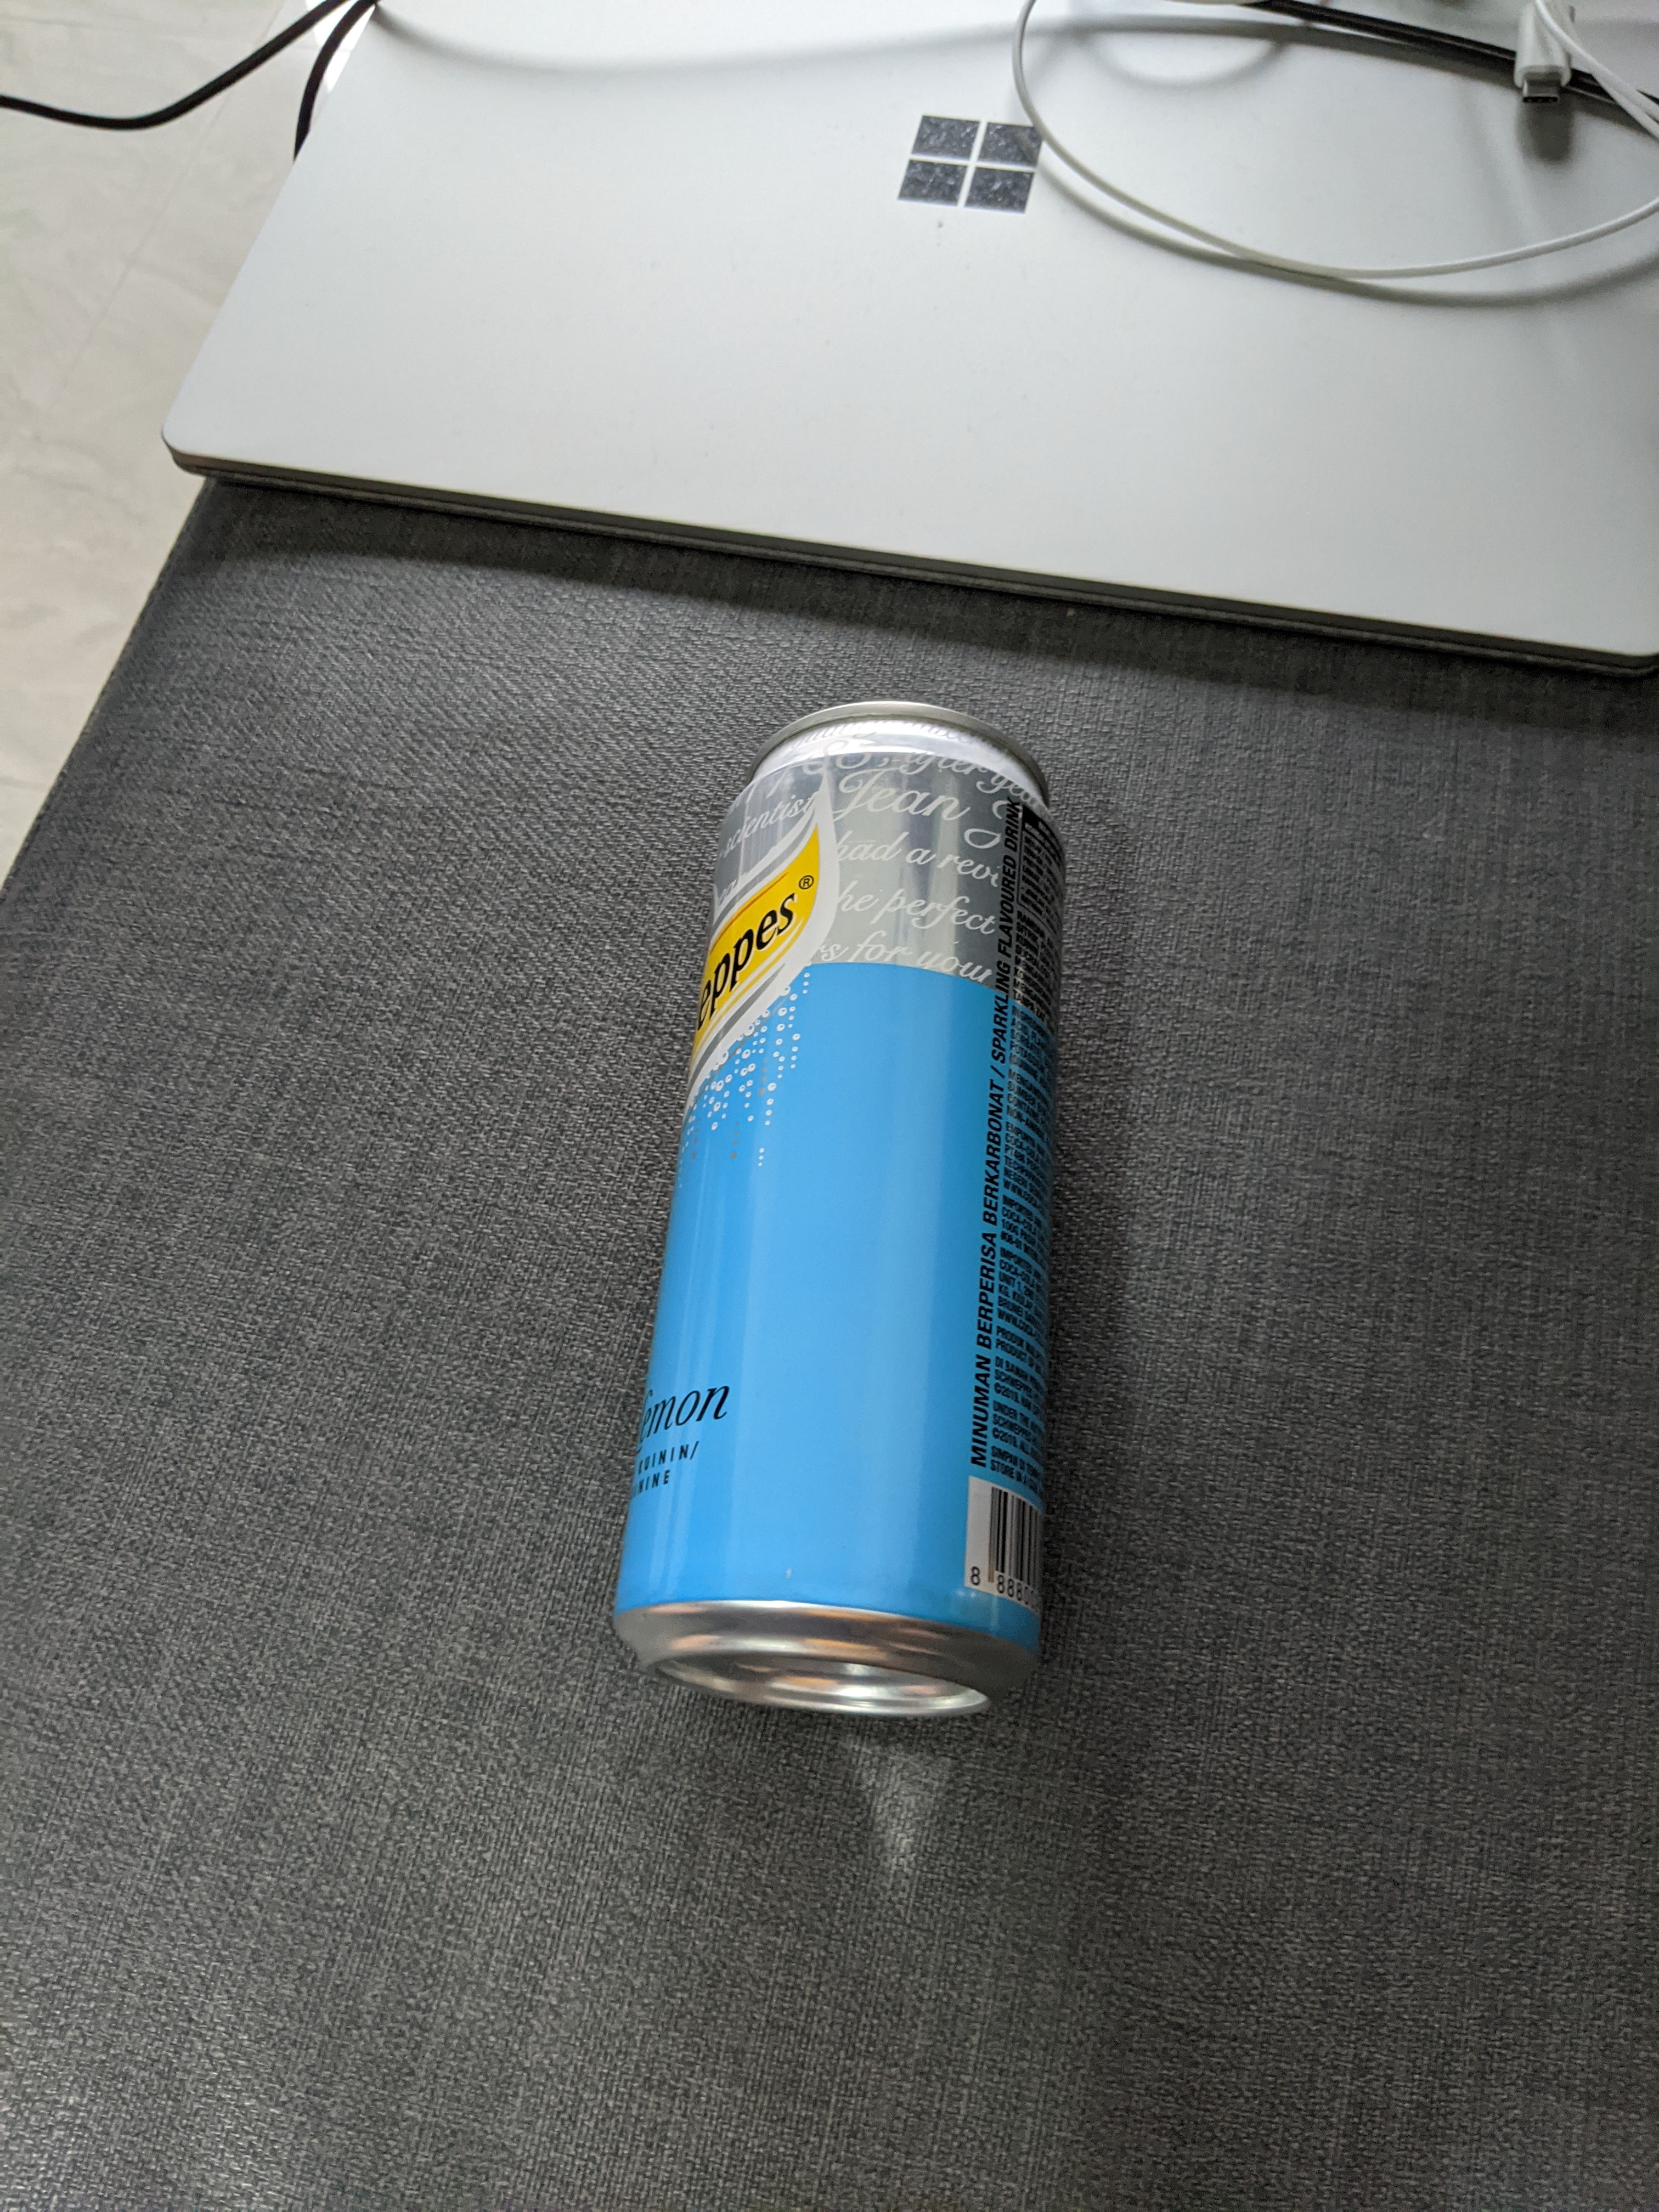schweppes drink can bitter lemon: (580, 672, 1110, 1768)
